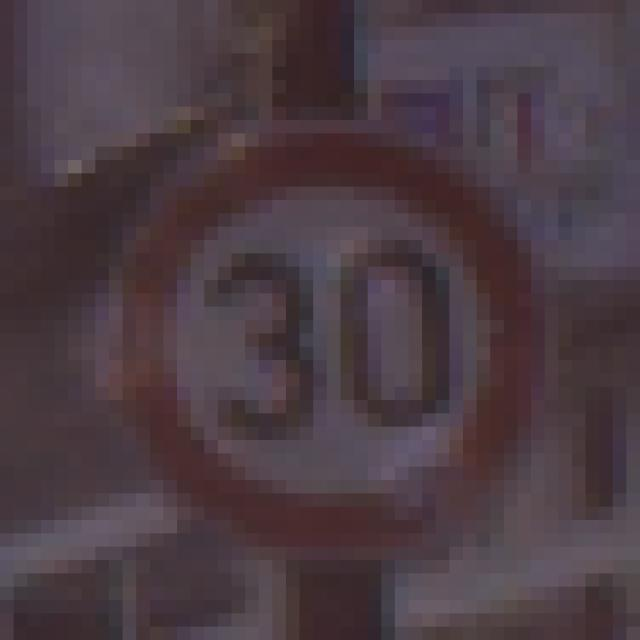Speed Limit -30-: (61, 73, 565, 567)
